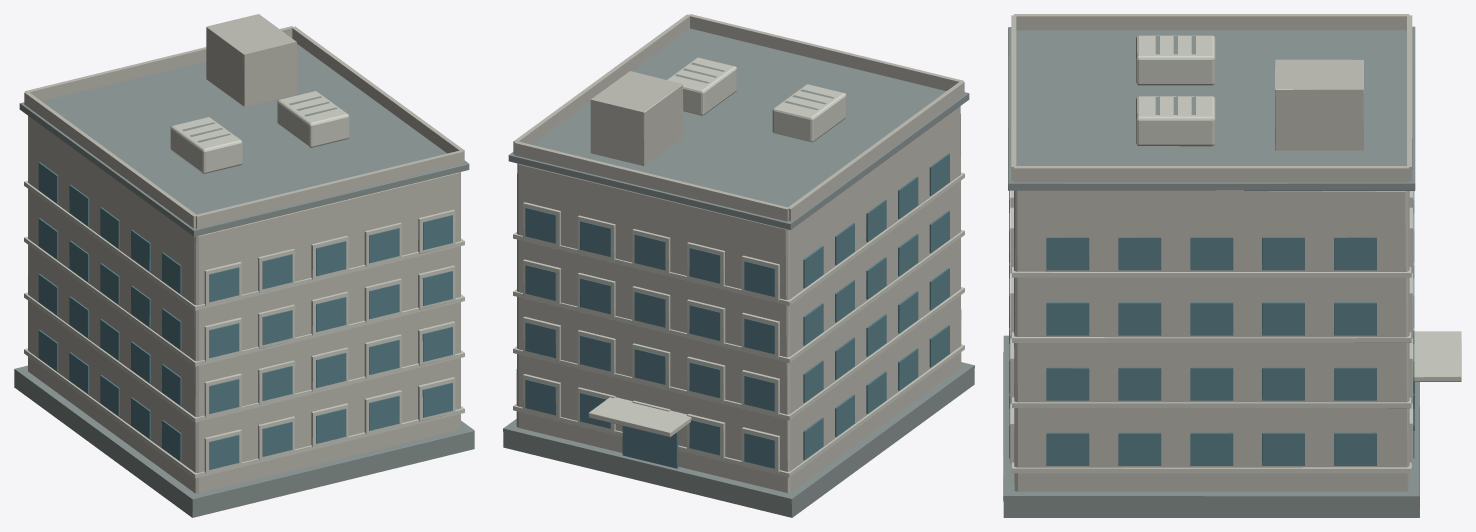
Rendered from building-office.glb.
3 renders of one model, left to right at view 1: azimuth 30°, elevation 25°; view 2: azimuth 150°, elevation 25°; view 3: azimuth 270°, elevation 25°, orthographic. The views are drawn at different scales.
Parts seen in each view (by area): view 1: core-Warm concrete-surfaces, core-Roof membrane-surfaces, core-Blue architectural glass-surfaces, core-Aluminum facade-surfaces; view 2: core-Warm concrete-surfaces, core-Roof membrane-surfaces, core-Blue architectural glass-surfaces, core-Aluminum facade-surfaces; view 3: core-Warm concrete-surfaces, core-Roof membrane-surfaces, core-Blue architectural glass-surfaces, core-Aluminum facade-surfaces.
Boxes of the visible parts, box(x1,y1,x2,y2) form: core-Warm concrete-surfaces: box(24, 14, 464, 493); core-Roof membrane-surfaces: box(14, 44, 474, 517); core-Blue architectural glass-surfaces: box(38, 162, 452, 469); core-Aluminum facade-surfaces: box(24, 91, 464, 478); core-Warm concrete-surfaces: box(513, 14, 964, 492); core-Roof membrane-surfaces: box(503, 28, 974, 517); core-Blue architectural glass-surfaces: box(525, 153, 949, 468); core-Aluminum facade-surfaces: box(513, 57, 964, 477); core-Warm concrete-surfaces: box(1011, 14, 1412, 491); core-Roof membrane-surfaces: box(1003, 26, 1419, 517); core-Blue architectural glass-surfaces: box(1009, 190, 1414, 465); core-Aluminum facade-surfaces: box(1010, 35, 1461, 473).
Bounding box in the file's own units: 10.57 × 12.09 × 12.74.
